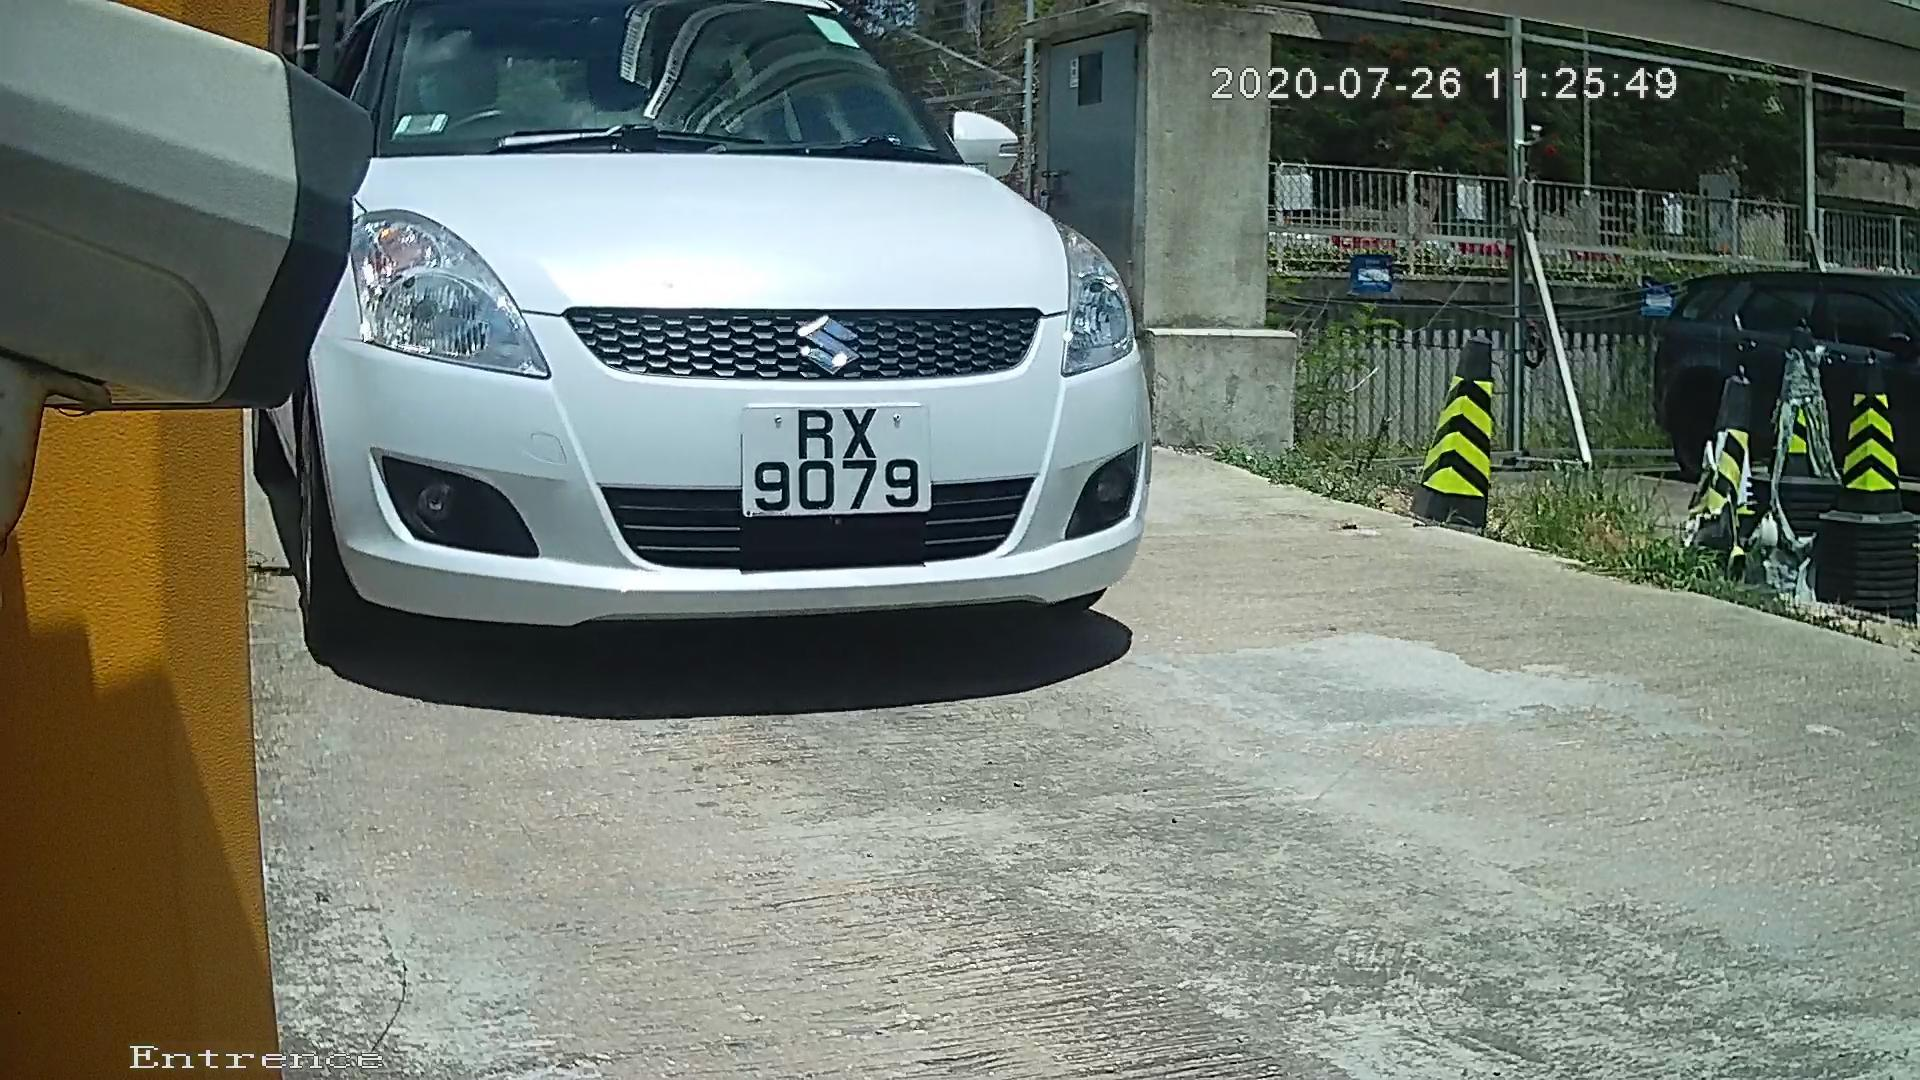privatecar: (215, 5, 1286, 684)
